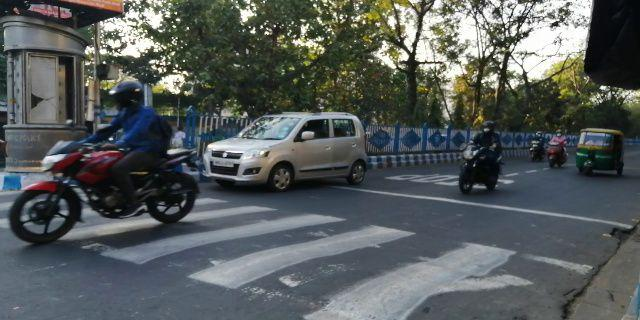Autorickshaw: (575, 123, 625, 185)
Car: (201, 104, 371, 191)
Motorbike: (5, 84, 199, 248), (453, 118, 505, 197), (542, 130, 570, 173), (522, 129, 545, 167)
